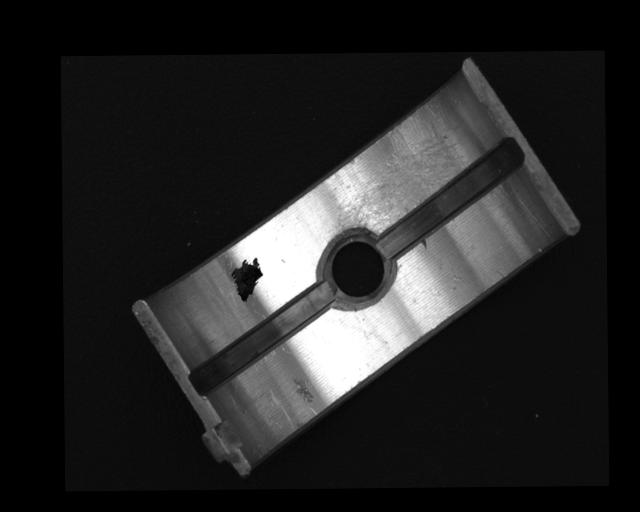blot: (229, 257, 263, 303)
bruise: (289, 374, 315, 404), (419, 238, 428, 250)
gap: (375, 139, 524, 258), (188, 284, 331, 394)
hole: (319, 233, 393, 305)
scratch: (330, 117, 466, 241)
